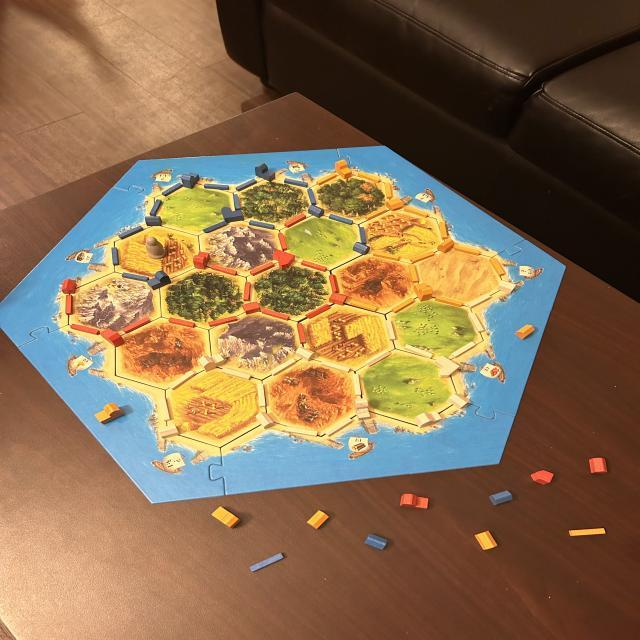blue-city: (146, 272, 172, 290), (254, 161, 275, 181), (222, 205, 246, 222), (182, 172, 200, 190)
blue-road: (250, 550, 286, 574), (118, 225, 146, 242), (160, 182, 184, 197), (328, 212, 354, 225), (234, 178, 257, 192), (284, 176, 310, 188), (120, 272, 150, 282), (203, 222, 228, 234), (109, 245, 122, 266), (248, 220, 274, 230), (357, 227, 369, 244), (148, 200, 162, 214), (306, 188, 316, 206), (232, 193, 242, 210), (204, 183, 228, 190)
blue-settlement: (364, 532, 390, 549), (490, 489, 514, 506), (352, 241, 370, 254), (146, 215, 162, 227), (308, 206, 324, 216)
orange-city: (211, 507, 243, 529), (413, 283, 436, 302), (336, 160, 352, 178)
orange-road: (568, 526, 608, 538), (436, 294, 466, 307), (390, 297, 414, 313), (488, 256, 507, 276), (410, 250, 434, 264), (455, 243, 483, 254), (350, 300, 377, 311), (374, 252, 402, 262), (365, 207, 386, 220), (316, 173, 336, 186), (408, 264, 422, 282), (403, 206, 428, 216), (357, 172, 381, 182), (438, 220, 448, 240), (384, 182, 393, 198)
orange-settlement: (306, 508, 330, 530), (476, 529, 500, 550), (516, 322, 536, 340), (385, 196, 403, 212), (438, 239, 457, 254)
red-city: (398, 492, 434, 510), (100, 327, 125, 347), (272, 250, 297, 269), (192, 252, 214, 270)
red-road: (122, 317, 152, 334), (252, 258, 274, 280), (306, 304, 331, 320), (262, 306, 290, 320), (168, 317, 197, 330), (300, 259, 328, 272), (208, 315, 238, 327), (70, 322, 99, 334), (282, 214, 306, 228), (211, 264, 236, 276), (296, 322, 308, 344), (276, 232, 290, 250), (330, 274, 340, 294), (66, 295, 74, 316), (244, 281, 251, 302)
red-settlement: (532, 468, 554, 486), (590, 456, 608, 476), (328, 291, 350, 307), (241, 300, 262, 316), (62, 278, 78, 296)
white-city: (436, 355, 462, 378), (350, 398, 376, 420), (198, 352, 226, 372), (414, 410, 442, 428)
white-road: (361, 351, 391, 368), (170, 370, 194, 390), (320, 358, 350, 374), (328, 418, 354, 436), (282, 424, 318, 437), (403, 343, 432, 358), (466, 292, 492, 308), (270, 358, 294, 375), (219, 367, 252, 379), (452, 341, 475, 358), (468, 312, 486, 332), (350, 373, 363, 397), (158, 398, 172, 420), (384, 319, 396, 341), (256, 382, 266, 408)
white-settlement: (448, 393, 472, 409), (156, 424, 180, 439), (496, 279, 518, 295), (296, 346, 318, 362), (256, 410, 272, 430)
